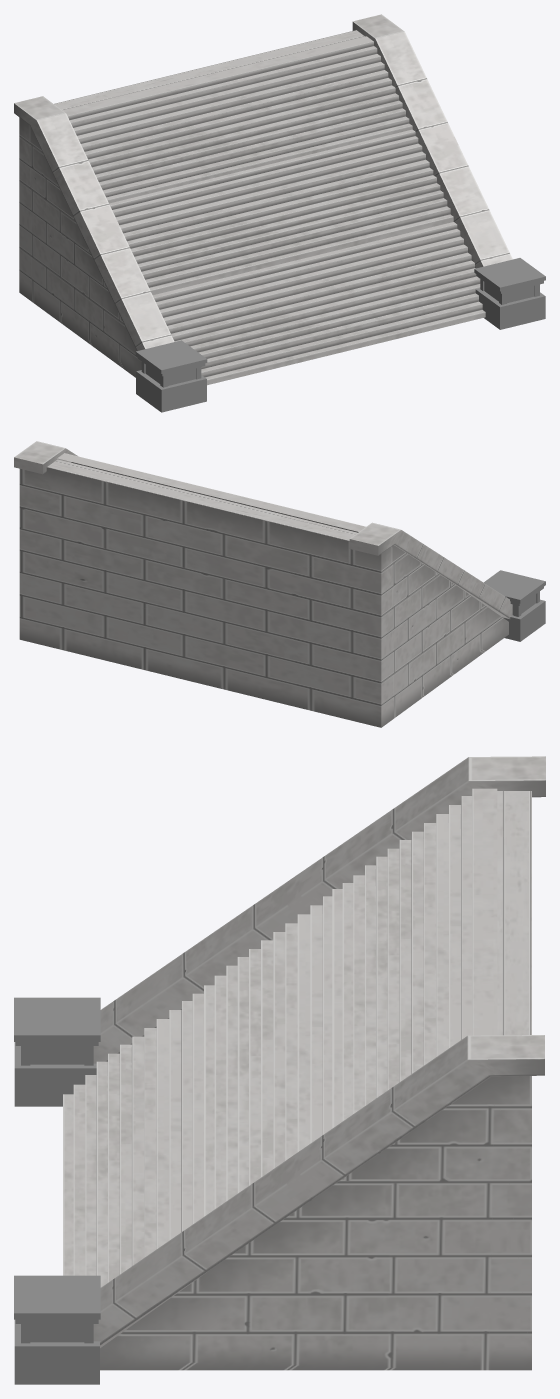
The model's file is Stage01_M_Floor02.FBX.
3 renders of one model, top to bottom at view 1: azimuth 30°, elevation 25°; view 2: azimuth 150°, elevation 25°; view 3: azimuth 270°, elevation 25°, orthographic. The views are drawn at different scales.
Parts seen in each view (by area): view 1: Floor, Floor_Deco003, Floor_Deco002; view 2: Floor, Floor_Deco003; view 3: Floor, Floor_Deco002, Floor_Deco003.
Part boxes in pixels (x1,y1,x2,y2): Floor: [14, 14, 512, 385]; Floor_Deco003: [135, 340, 207, 412]; Floor_Deco002: [474, 258, 545, 329]; Floor: [14, 441, 512, 727]; Floor_Deco003: [484, 570, 545, 641]; Floor: [63, 756, 545, 1370]; Floor_Deco002: [14, 1275, 100, 1384]; Floor_Deco003: [14, 997, 100, 1106].
Size of the model in its own units: 863 by 410 by 615.
